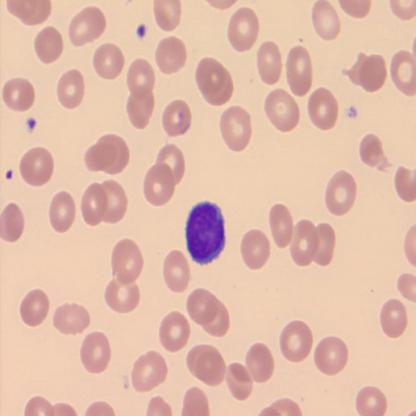Lymphocyte: (184, 200, 227, 266)
